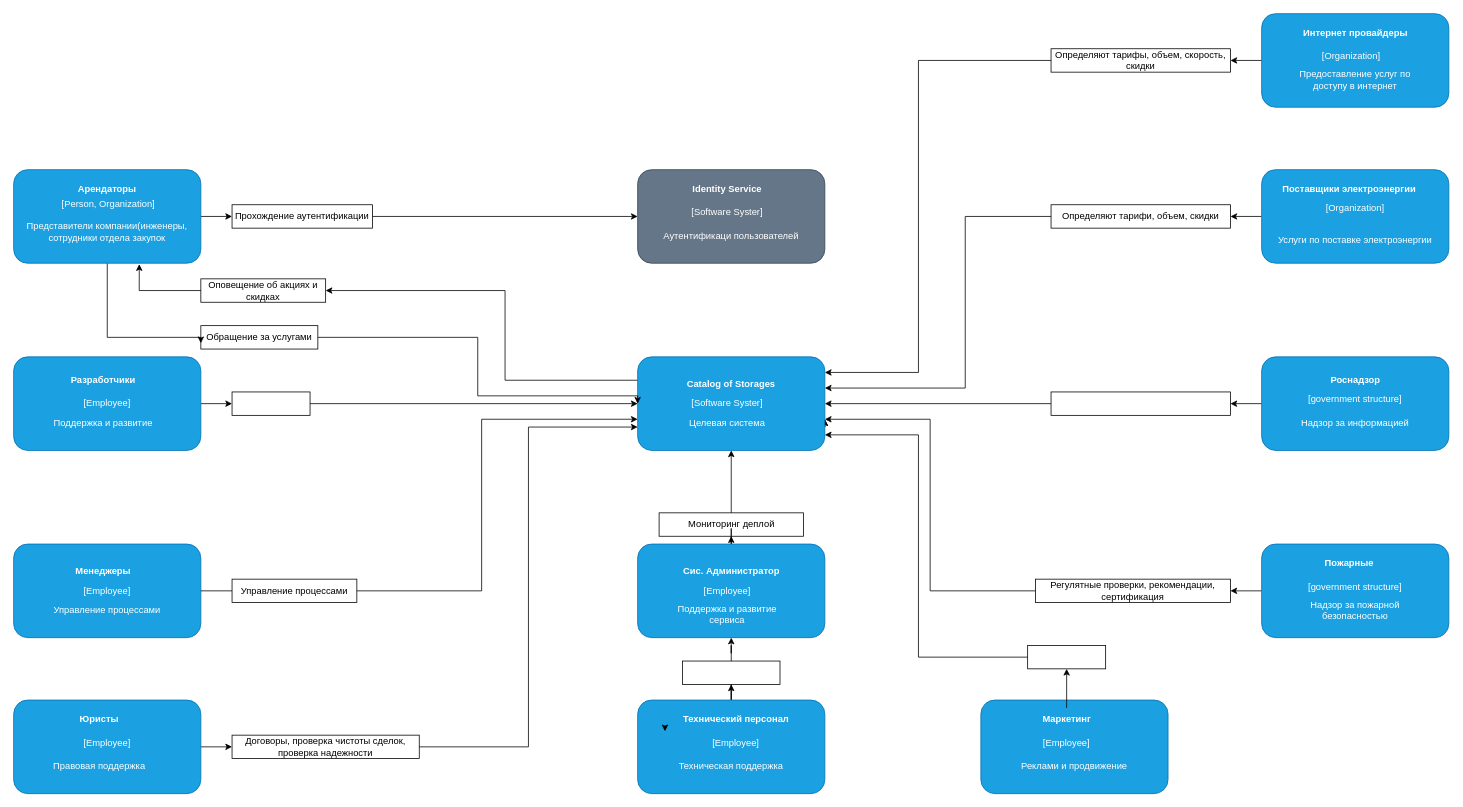
Some shapes in this 1463 by 807 pixel diagram are drawn without their labels. The shapes that lost their labels are listed below. From the top down, each one's box as (x1, y1, x2, y2) in pixels, then its label:
(231, 391, 310, 415): Разработка
(1050, 391, 1230, 415): Контролируют хранение информации, соблюдение гос норм
(682, 660, 780, 684): Обслуживание оборудования
(1027, 645, 1106, 669): Рекламные проекты
